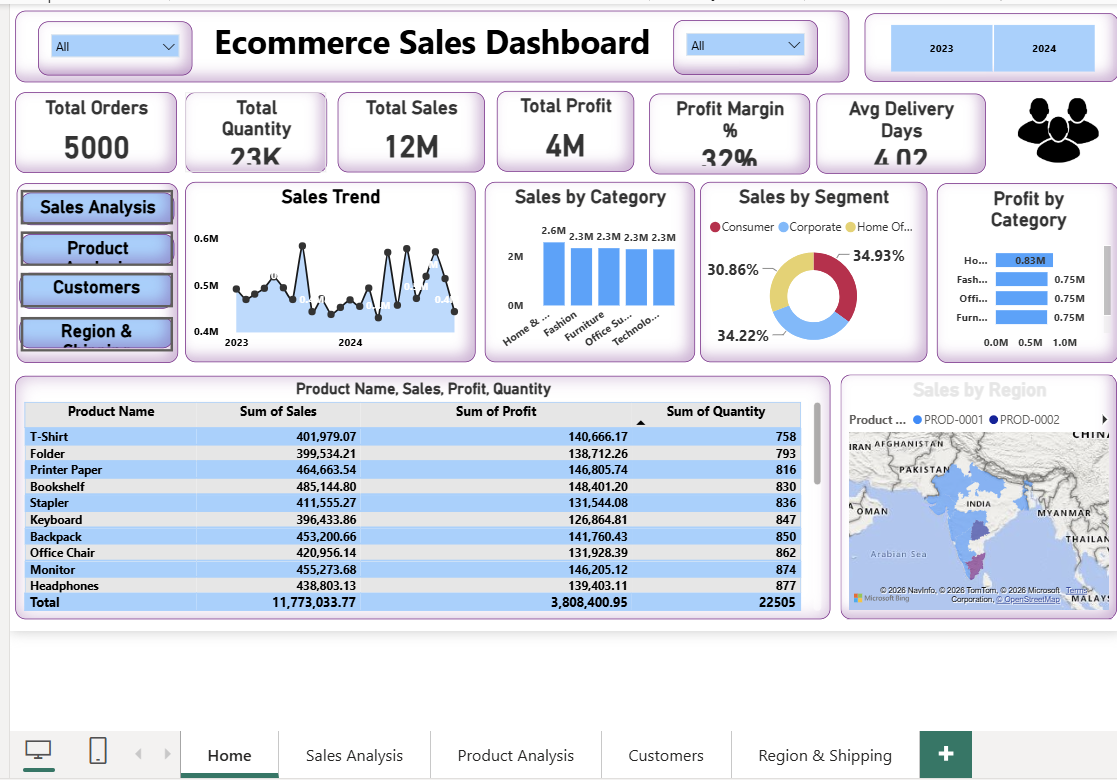

What the dashboard file says about the page in this screenshot:
{"tool":"powerbi","page":{"name":"Home","canvas":[1280,720],"ordinal":0},"visuals":[{"type":"textbox","box":[6,8.4,957.9,82],"z":0},{"type":"card","title":"Total Orders","fields":{"Values":["Count(Sheet1.Order ID)"]},"box":[6,101.3,185.8,92.9],"z":1000},{"type":"card","title":"Total Quantity","fields":{"Values":["Sum(Sheet1.Quantity)"]},"box":[201.5,101.3,162.9,92.9],"z":2000},{"type":"card","title":"Total Sales","fields":{"Values":["Sum(Sheet1.Sales)"]},"box":[376.4,101.3,168.9,91.7],"z":3000},{"type":"card","title":"Total Profit","fields":{"Values":["Sum(Sheet1.Profit)"]},"box":[559.8,100.1,158,92.9],"z":4000},{"type":"card","title":"Profit Margin %","fields":{"Values":["Sheet1.Profit Margin"]},"box":[733.5,102.5,184.6,92.9],"z":5000},{"type":"card","title":"Avg Delivery Days","fields":{"Values":["Sheet1.Average Delivery Days"]},"box":[926.5,102.5,194.2,91.7],"z":6000},{"type":"columnChart","title":" Sales by Category","fields":{"Category":["Sheet1.Category"],"Y":["Sum(Sheet1.Sales)"]},"box":[544.8,204.5,241.5,207.2],"z":7000},{"type":"donutChart","title":"Sales by Segment","fields":{"Category":["Sheet1.Segment"],"Y":["Sum(Sheet1.Sales)"]},"box":[793.1,204.5,260.7,207.2],"z":8000},{"type":"barChart","title":"Profit by Category","fields":{"Category":["Sheet1.Category"],"Y":["Sum(Sheet1.Profit)"]},"box":[1064.1,205.1,209.9,206.3],"z":9000},{"type":"stackedAreaChart","title":"Sales Trend","fields":{"Category":["Sheet1.Order Date.Variation.Date Hierarchy.Year","Sheet1.Order Date.Variation.Date Hierarchy.Quarter","Sheet1.Order Date.Variation.Date Hierarchy.Month"],"Y":["Sum(Sheet1.Sales)"]},"box":[201.7,204.5,333.4,207.2],"z":10000},{"type":"slicer","fields":{"Values":["Sheet1.Year"]},"box":[981.4,11.4,292.9,78.6],"z":11000},{"type":"slicer","fields":{"Values":["Sheet1.State"]},"box":[761.4,18.6,165.7,62.9],"z":12000},{"type":"slicer","fields":{"Values":["Sheet1.City"]},"box":[32.9,19.2,177,61.7],"z":13000},{"type":"tableEx","title":"Product Name, Sales, Profit, Quantity","fields":{"Values":["Sheet1.Product Name","Sum(Sheet1.Sales)","Sum(Sheet1.Profit)","Sum(Sheet1.Quantity)"]},"box":[6,427.1,936.2,279.9],"z":14000},{"type":"filledMap","title":"Sales by Region","fields":{"Category":["Sheet1.State"],"Series":["Sheet1.Product ID"]},"box":[954.3,425.9,318.5,281.1],"z":15000},{"type":"shape","box":[7.2,205.1,185.8,206.3],"z":16000},{"type":"shape","title":"Sales Analysis","box":[12.1,217.2,176.1,37.4],"z":17000},{"type":"shape","title":"Product Analysis","box":[12.1,264.2,176.1,35],"z":18000},{"type":"shape","title":"Customers","box":[10.9,308.8,176.1,41],"z":19000},{"type":"shape","title":"Region & Shipping","box":[10.9,359.5,176.1,36.2],"z":20000},{"type":"image","box":[1135.3,102.5,137.5,84.5],"z":21000},{"type":"actionButton","box":[12.3,213.5,175.1,39.9],"z":22000},{"type":"actionButton","box":[12.3,261.1,175.1,39.9],"z":23000},{"type":"actionButton","box":[12.3,308.8,175.1,39.9],"z":24000},{"type":"actionButton","box":[12.3,359.5,175.1,39.9],"z":25000}]}

Visuals, with their boxes on the page's 1280x720 design canvas (x1, y1, x2, y2). These are canvas units, not pixel positions in the 1117x780 screenshot, which may show the page scaled, cropped or inside an application window:
textbox: box(6, 8, 964, 90)
"Total Orders" card: box(6, 101, 192, 194)
"Total Quantity" card: box(202, 101, 364, 194)
"Total Sales" card: box(376, 101, 545, 193)
"Total Profit" card: box(560, 100, 718, 193)
"Profit Margin %" card: box(734, 102, 918, 195)
"Avg Delivery Days" card: box(926, 102, 1121, 194)
" Sales by Category" columnChart: box(545, 204, 786, 412)
"Sales by Segment" donutChart: box(793, 204, 1054, 412)
"Profit by Category" barChart: box(1064, 205, 1274, 411)
"Sales Trend" stackedAreaChart: box(202, 204, 535, 412)
slicer - Sheet1.Year: box(981, 11, 1274, 90)
slicer - Sheet1.State: box(761, 19, 927, 82)
slicer - Sheet1.City: box(33, 19, 210, 81)
"Product Name, Sales, Profit, Quantity" tableEx: box(6, 427, 942, 707)
"Sales by Region" filledMap: box(954, 426, 1273, 707)
shape: box(7, 205, 193, 411)
"Sales Analysis" shape: box(12, 217, 188, 255)
"Product Analysis" shape: box(12, 264, 188, 299)
"Customers" shape: box(11, 309, 187, 350)
"Region & Shipping" shape: box(11, 360, 187, 396)
image: box(1135, 102, 1273, 187)
actionButton: box(12, 214, 187, 253)
actionButton: box(12, 261, 187, 301)
actionButton: box(12, 309, 187, 349)
actionButton: box(12, 360, 187, 399)
